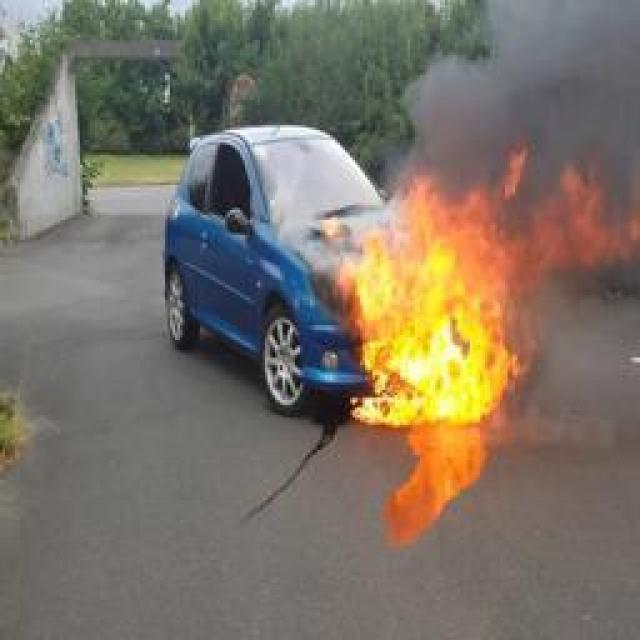Fire: (325, 150, 640, 425)
